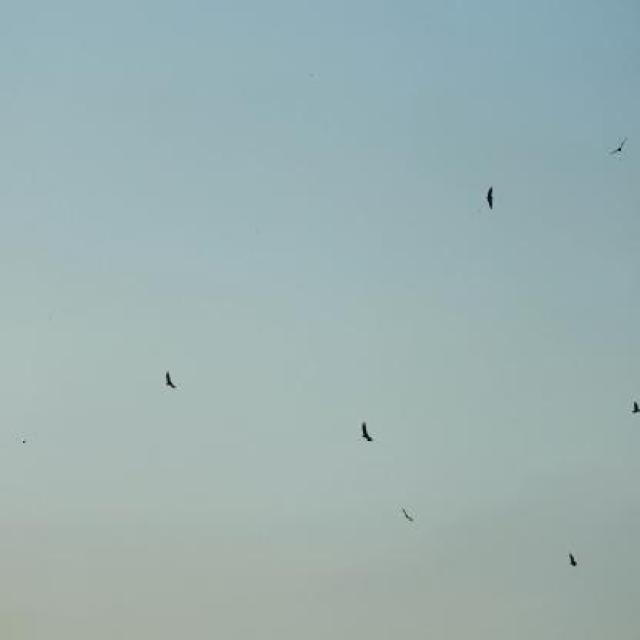bird: (480, 176, 500, 219), (606, 128, 628, 164), (357, 411, 372, 449), (160, 368, 178, 394), (398, 503, 416, 528), (563, 543, 579, 571), (629, 397, 640, 421)
